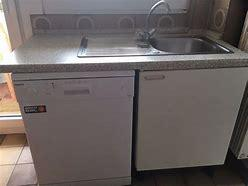cabinet_door: (139, 70, 235, 166)
handle: (144, 74, 166, 81)
